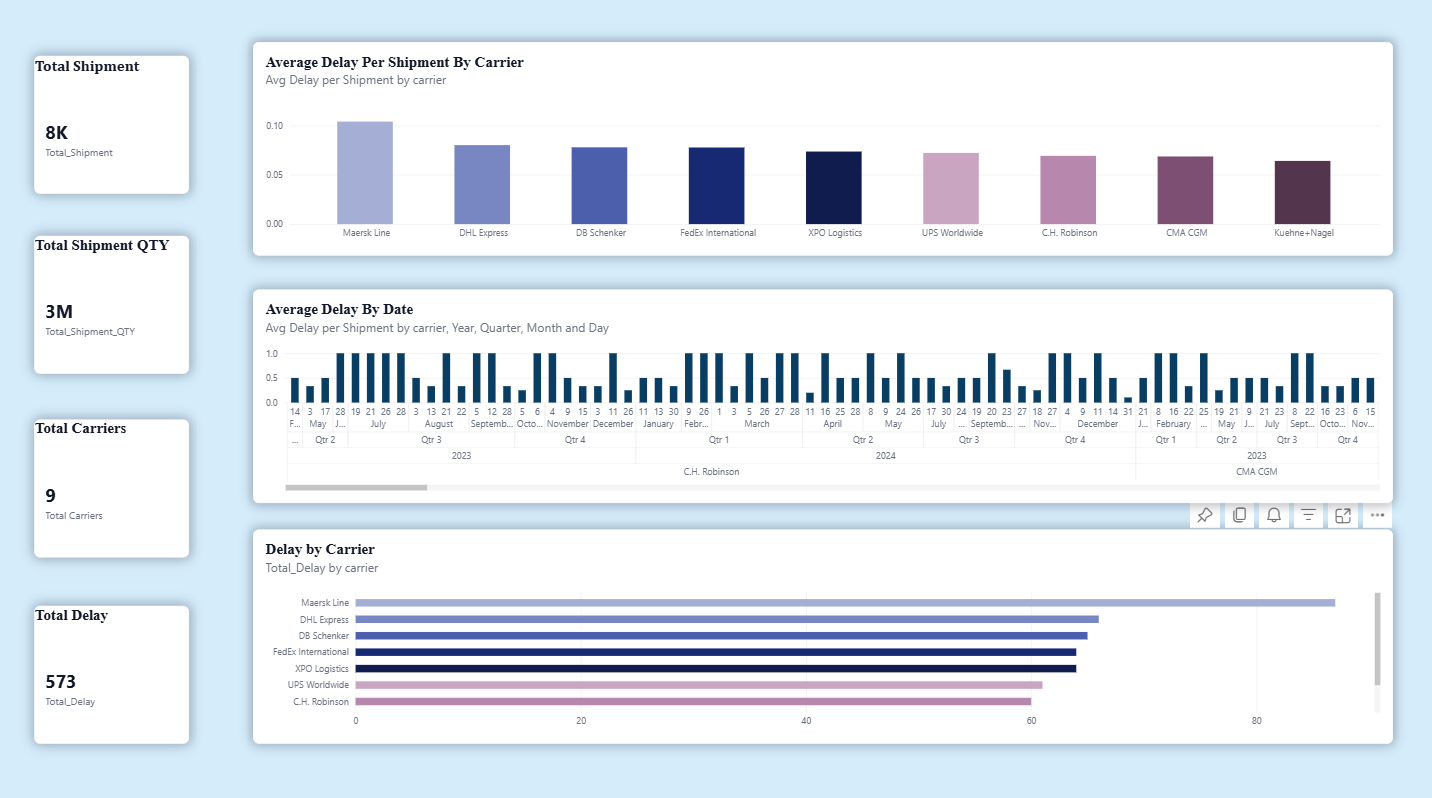

The page's visual inventory and layout, read from the dashboard file:
{"tool":"powerbi","page":{"name":"Shipment","canvas":[1920,1080],"ordinal":3},"visuals":[{"type":"cardVisual","title":"Total Shipment","fields":{"Data":["Measure.Total_Shipment"]},"box":[47.9,79.1,206.1,184],"z":4000},{"type":"cardVisual","title":"Total Shipment QTY","fields":{"Data":["Measure.Total_Shipment_QTY"]},"box":[47.9,318.4,206.1,184],"z":5000},{"type":"cardVisual","title":"Total Carriers","fields":{"Data":["Measure.Total Carriers"]},"box":[47.9,563.2,206.1,184],"z":6000},{"type":"cardVisual","title":"Total Delay","fields":{"Data":["Measure.Total_Delay"]},"box":[47.9,811.7,206.1,184.1],"z":7000},{"type":"clusteredBarChart","title":" Delay by Carrier","fields":{"Category":["fact_shipment.carrier"],"Y":["Measure.Total_Delay"]},"box":[340.5,710.4,1520.3,285.3],"z":8000},{"type":"clusteredColumnChart","title":" Average Delay Per Shipment By Carrier ","fields":{"Category":["fact_shipment.carrier"],"Y":["Measure.Avg Delay per Shipment"]},"box":[340.5,60.7,1520.3,285],"z":9000},{"type":"clusteredColumnChart","title":"Average Delay By Date","fields":{"Category":["fact_shipment.carrier","dim_date.date.Variation.Date Hierarchy.Year","dim_date.date.Variation.Date Hierarchy.Quarter","dim_date.date.Variation.Date Hierarchy.Month","dim_date.date.Variation.Date Hierarchy.Day"],"Y":["Measure.Avg Delay per Shipment"]},"box":[340.5,390.2,1520.3,285],"z":10000}]}

Visuals, with their boxes in screenshot pixels (x1, y1, x2, y2), scaled from the page's 1920x1080 canvas onto the 1432x798 screenshot:
"Total Shipment" cardVisual: (36, 58, 189, 194)
"Total Shipment QTY" cardVisual: (36, 235, 189, 371)
"Total Carriers" cardVisual: (36, 416, 189, 552)
"Total Delay" cardVisual: (36, 600, 189, 736)
" Delay by Carrier" clusteredBarChart: (254, 525, 1388, 736)
" Average Delay Per Shipment By Carrier " clusteredColumnChart: (254, 45, 1388, 255)
"Average Delay By Date" clusteredColumnChart: (254, 288, 1388, 499)
